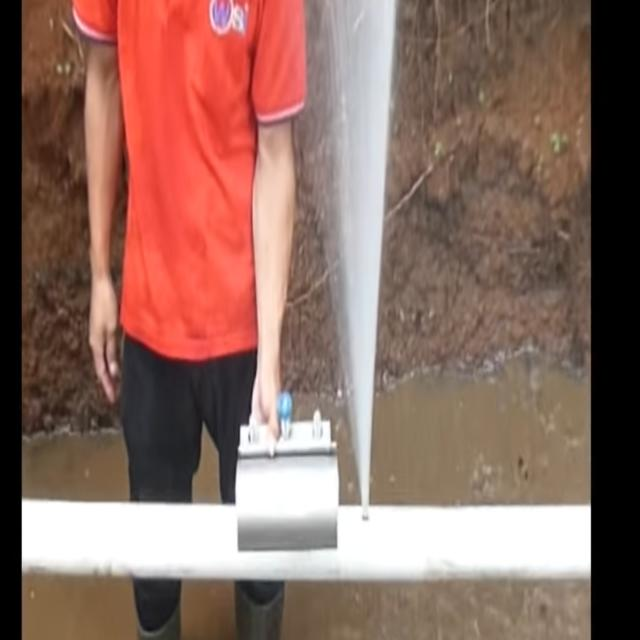leak: (312, 0, 396, 520)
